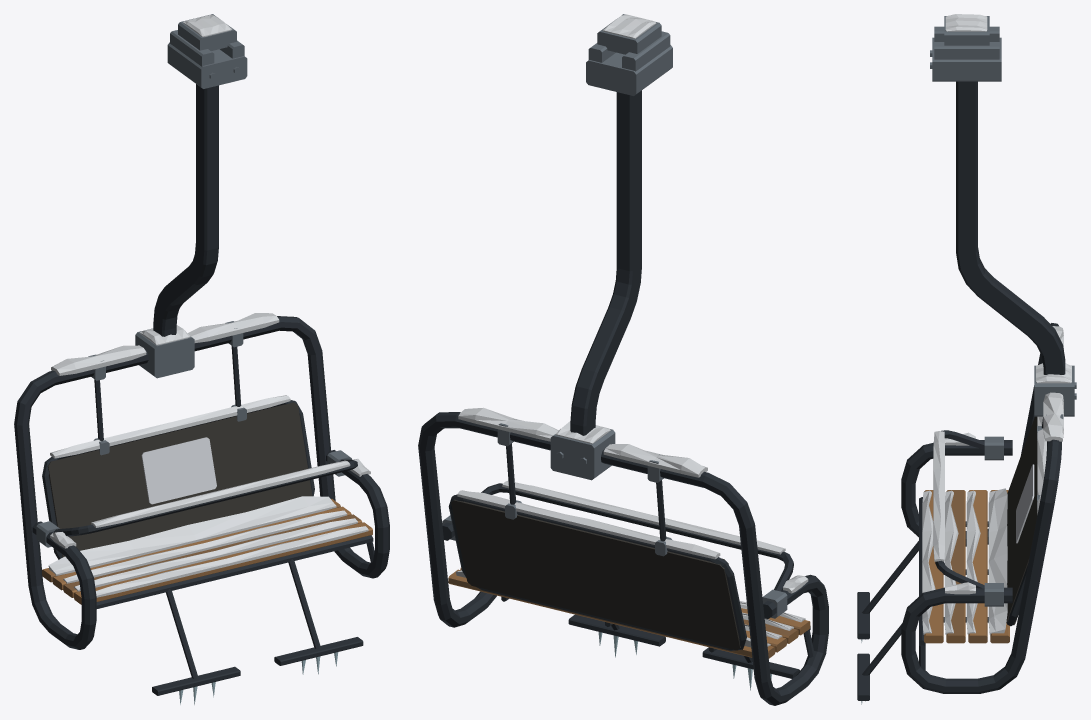
File: chairlift-chair-2beb2b.glb
3 renders of one model, left to right at view 1: azimuth 30°, elevation 25°; view 2: azimuth 150°, elevation 25°; view 3: azimuth 270°, elevation 25°, orthographic. The views are drawn at different scales.
Parts seen in each view (by area): view 1: chair, grip, bar-hoop; view 2: chair, grip, bar-hoop; view 3: chair, grip, bar-hoop.
Boxes of the visible parts, <box> form: chair: <box>14,84,389,704</box>; grip: <box>167,14,247,88</box>; bar-hoop: <box>54,459,357,536</box>; chair: <box>418,90,828,705</box>; grip: <box>586,14,672,95</box>; bar-hoop: <box>481,481,793,591</box>; chair: <box>857,81,1076,704</box>; grip: <box>930,14,1001,81</box>; bar-hoop: <box>933,430,984,588</box>.
Bounding box in the file's own units: 2 × 3.95 × 1.2.
